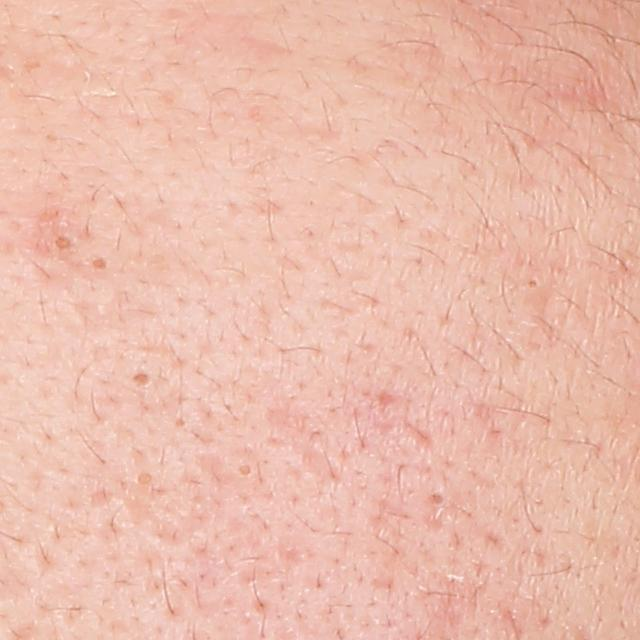atrophic_scar: (119, 488, 188, 545), (196, 451, 224, 480)
comedo: (122, 364, 156, 396), (86, 250, 111, 276), (133, 467, 156, 492), (426, 487, 449, 512), (234, 461, 256, 482), (524, 274, 541, 290)
